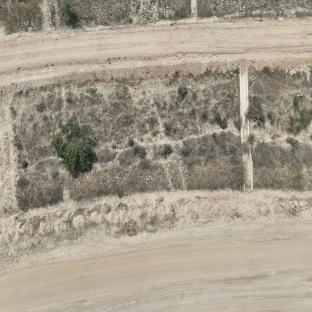rock_toe: (19, 162, 242, 202), (255, 165, 312, 189), (160, 99, 160, 101)
slope_drain: (239, 64, 255, 193)
toe_drain: (0, 190, 312, 227)
vegetation: (52, 119, 100, 180)
